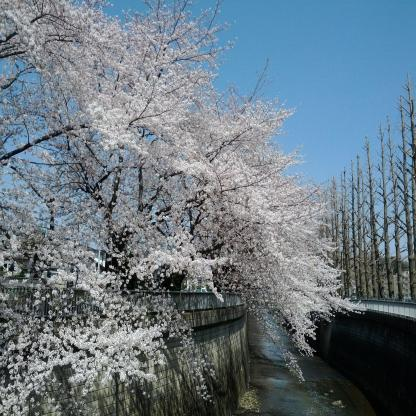Someiyoshino: (0, 0, 357, 416)
